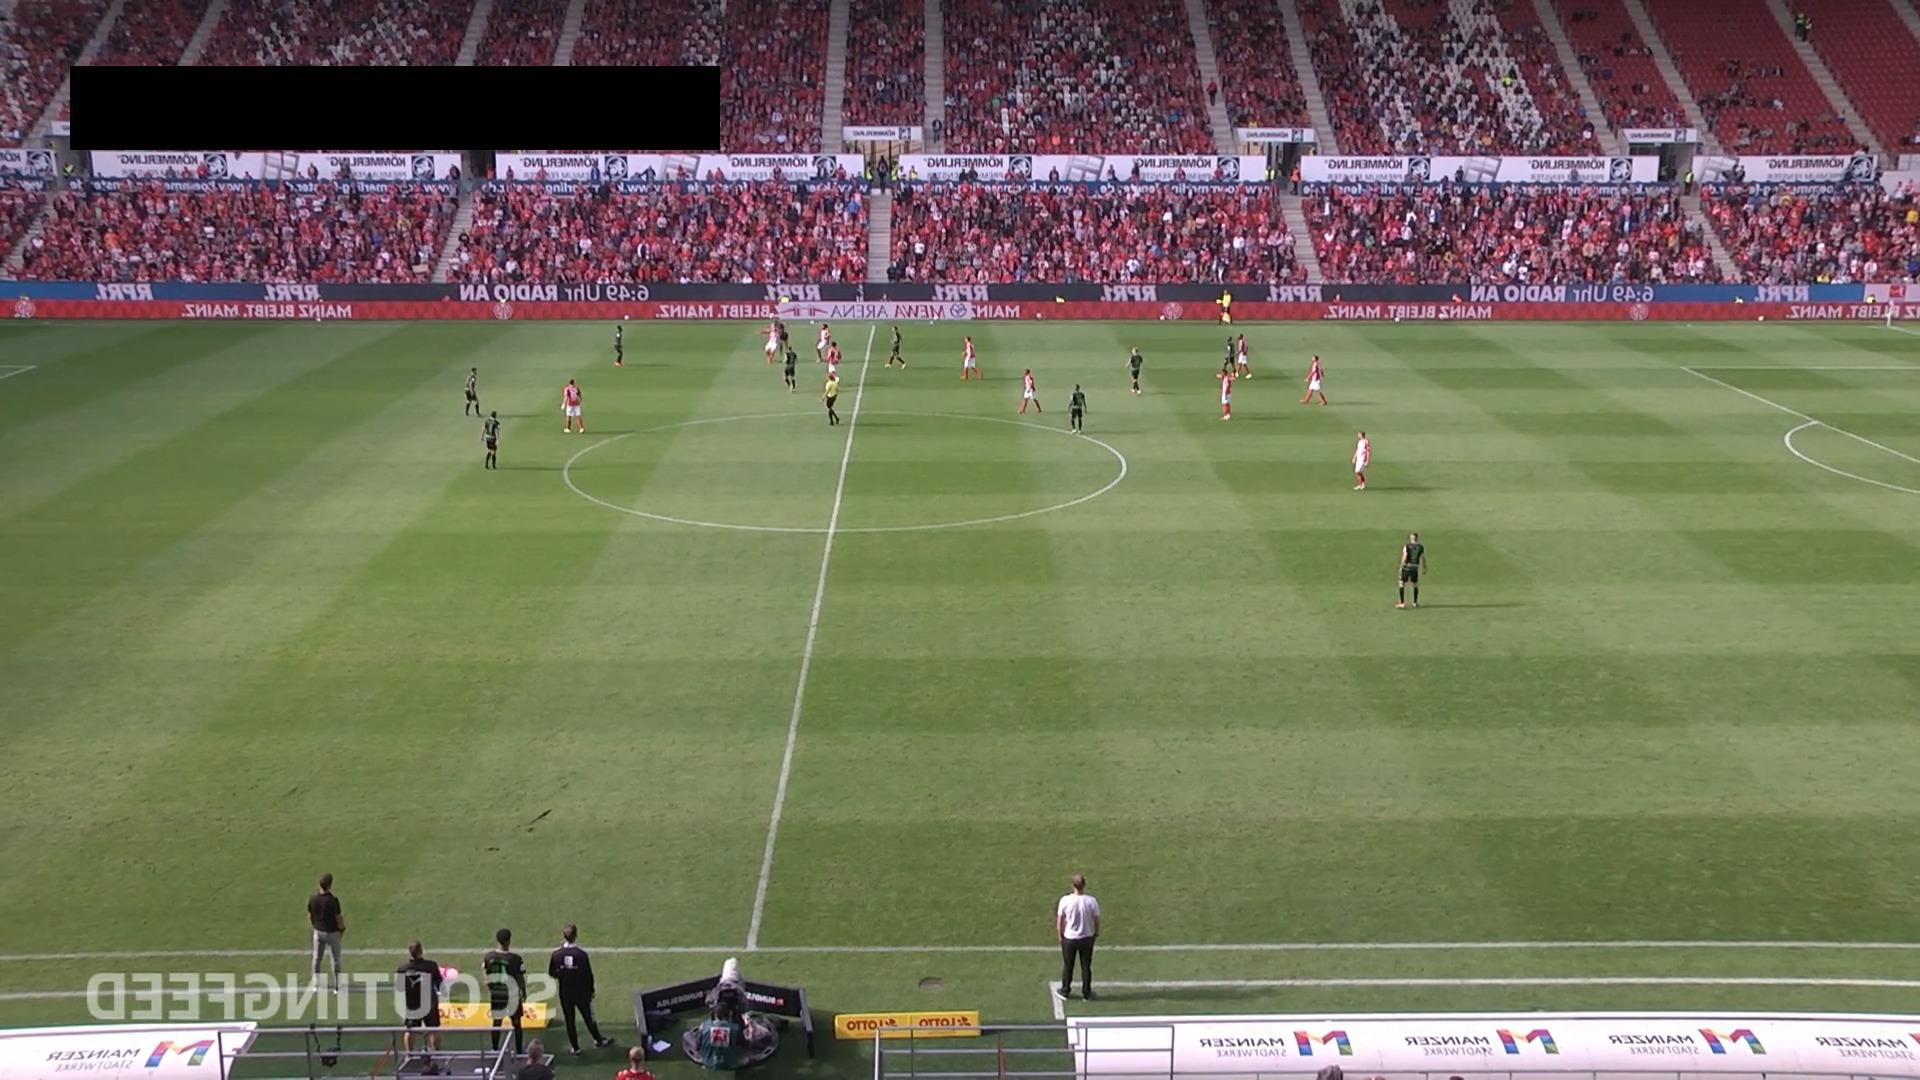ball: (767, 309, 778, 322)
player: (1394, 532, 1427, 610), (1299, 354, 1326, 406), (562, 378, 586, 435), (479, 409, 501, 471), (1350, 431, 1371, 490), (1067, 381, 1088, 435), (1018, 368, 1042, 414), (462, 366, 482, 418), (1217, 334, 1237, 381), (961, 336, 982, 380), (885, 326, 906, 370), (1126, 344, 1144, 395), (759, 321, 780, 364), (1234, 333, 1252, 378), (782, 346, 799, 391), (826, 340, 844, 381), (814, 322, 832, 362), (1221, 368, 1233, 421), (613, 323, 626, 366), (779, 319, 792, 356)
referee: (819, 375, 839, 426), (1219, 288, 1232, 325)
